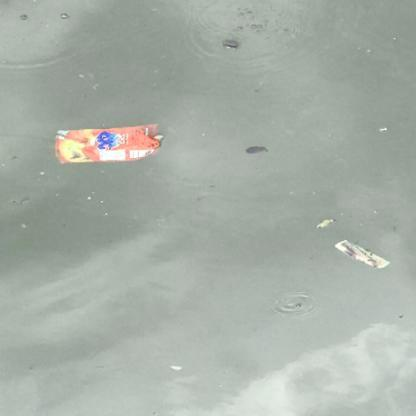Trash: (51, 120, 168, 166), (331, 237, 395, 272)
